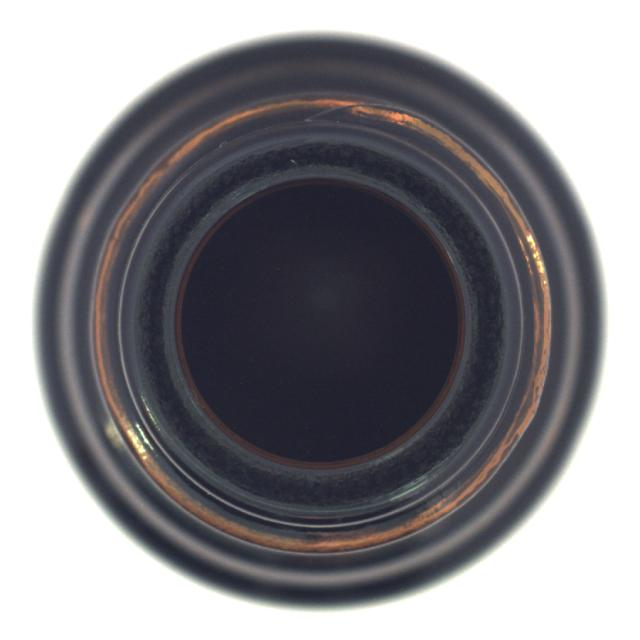bottle-good: (33, 32, 596, 608)
